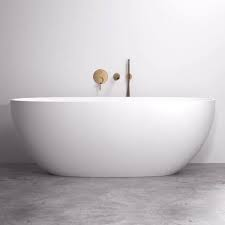bathub: (9, 92, 218, 183)
